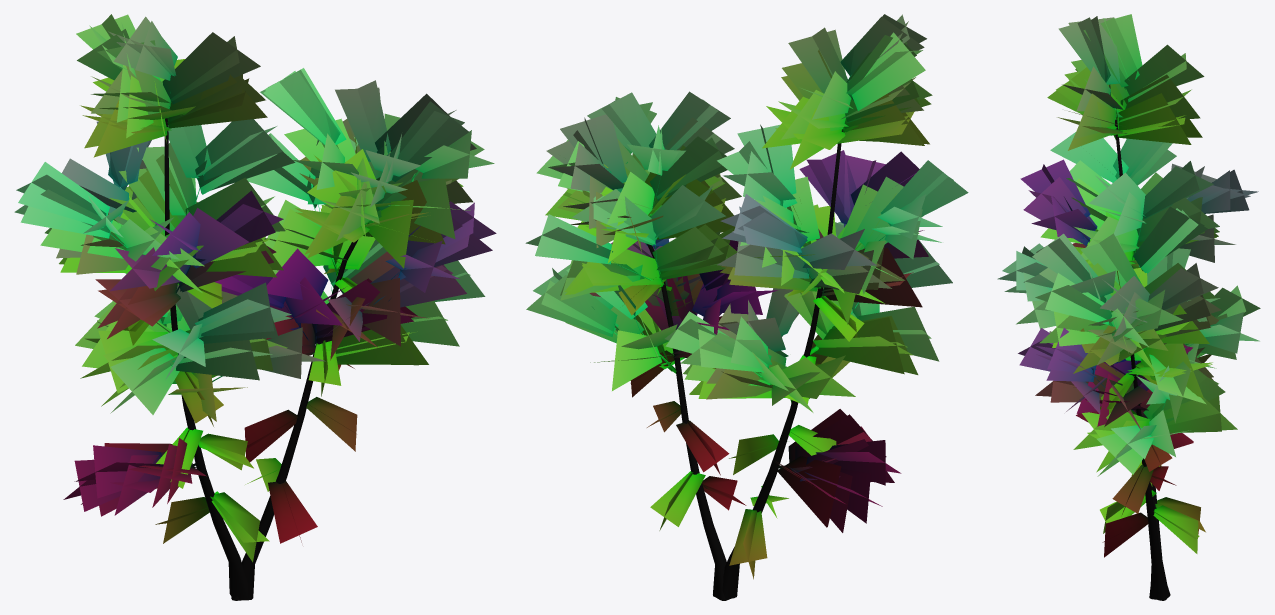
Rendered from M_Realistic21_15.fbx.
The picture shows the model from 3 angles, left to right: view 1: azimuth 30°, elevation 25°; view 2: azimuth 150°, elevation 25°; view 3: azimuth 270°, elevation 25°; orthographic projection. The views are drawn at different scales.
Parts seen in each view (by area): view 1: Tree_15; view 2: Tree_15; view 3: Tree_15.
Boxes of the visible parts, box(x1,y1,x2,y2) form: Tree_15: box(14, 14, 496, 600); Tree_15: box(525, 14, 968, 600); Tree_15: box(997, 14, 1260, 600).
Bounding box in the file's own units: 1722 × 2331 × 1058.
